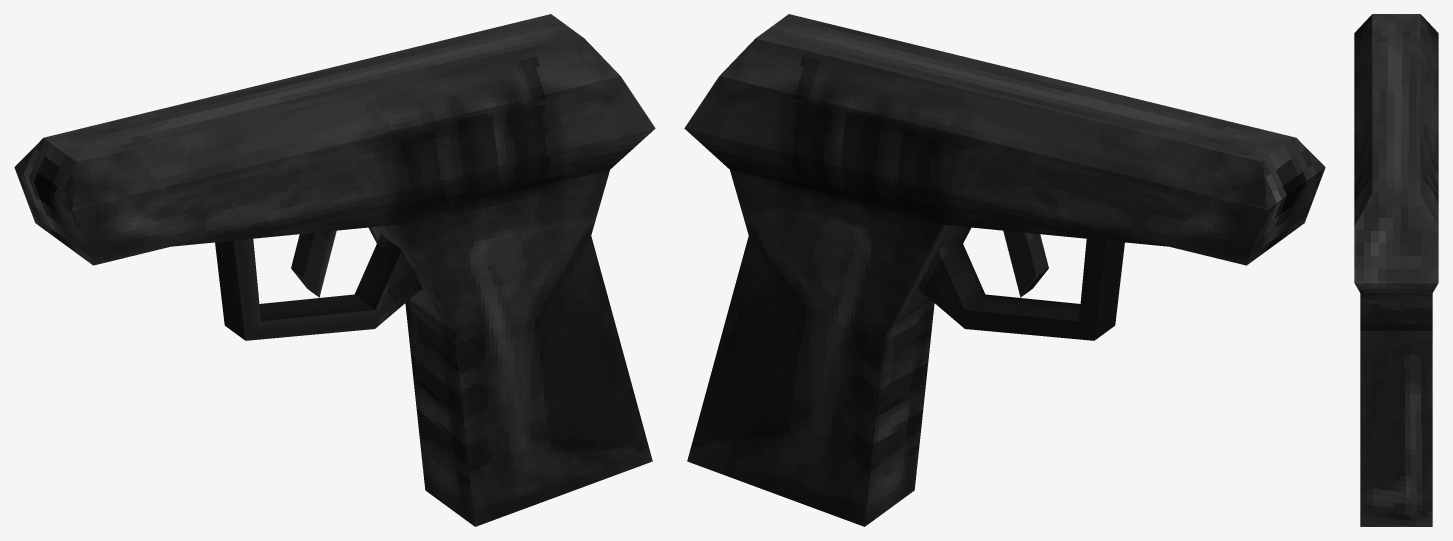
The model's file is Gun.glb.
The picture shows the model from 3 angles, left to right: view 1: azimuth 30°, elevation 25°; view 2: azimuth 150°, elevation 25°; view 3: azimuth 270°, elevation 25°; orthographic projection. The views are drawn at different scales.
Visible parts, largest first — view 1: Gun; view 2: Gun; view 3: Gun.
Part boxes in pixels (x1,y1,x2,y2): Gun: (14,14,655,526); Gun: (684,14,1325,526); Gun: (1354,14,1438,526).
Bounding box in the file's own units: 0.8239 × 0.6114 × 0.1418.
1 material, 1 textured.
